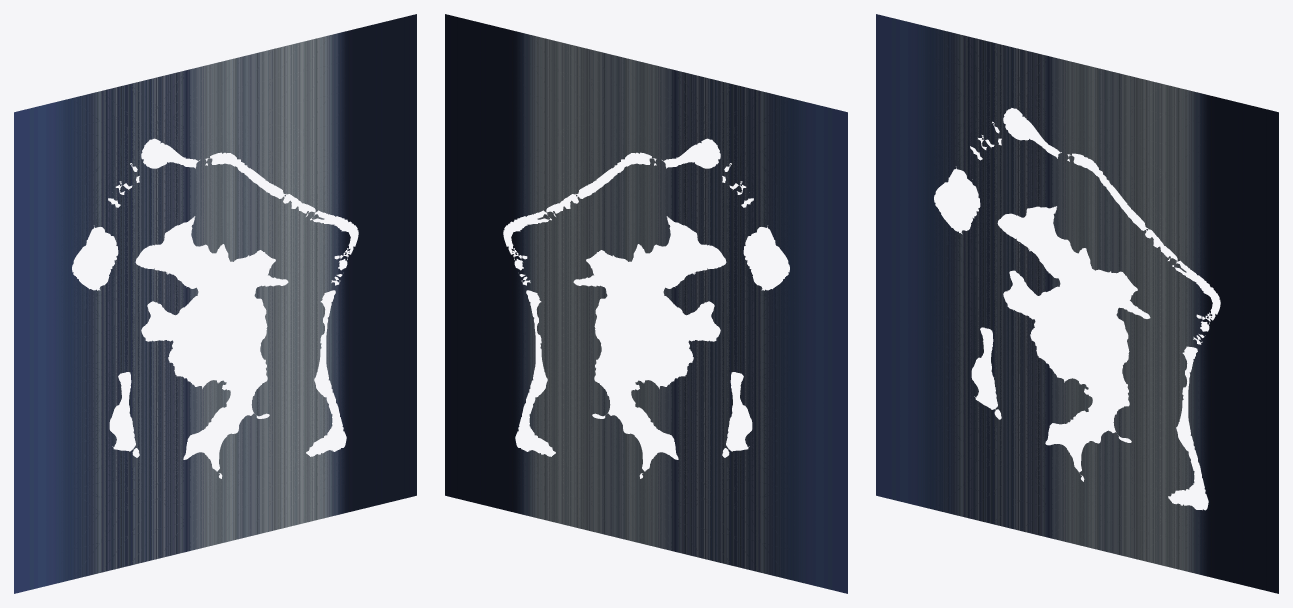
The model's file is WoraWind_Est_Glyphs.glb.
3 views of the same model, side by side, from view 1: azimuth 30°, elevation 25°; view 2: azimuth 150°, elevation 25°; view 3: azimuth 330°, elevation 25° (orthographic).
Parts seen in each view (by area): view 1: Renderer Node; view 2: Renderer Node; view 3: Renderer Node.
Part boxes in pixels (left/top/right/bottom): Renderer Node: left=14, top=14, right=416, bottom=593; Renderer Node: left=445, top=14, right=847, bottom=593; Renderer Node: left=876, top=14, right=1278, bottom=593.
Bounding box in the file's own units: 14000 × 16000 × 5.71.
1 material, 1 textured.
